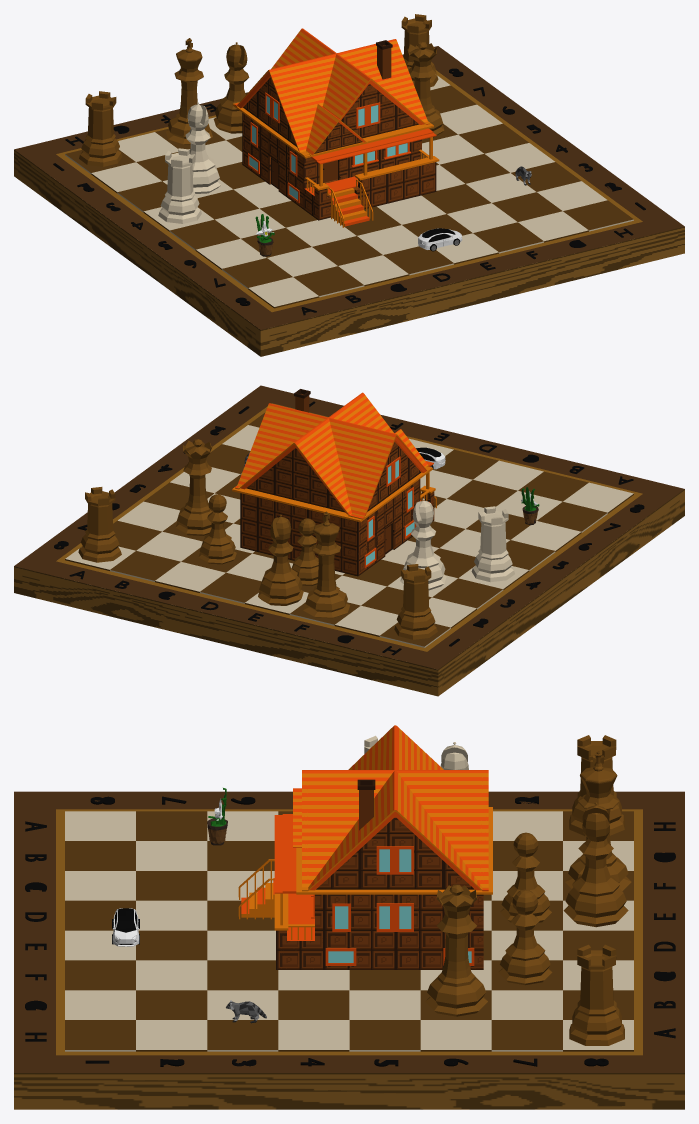
The picture shows the model from 3 angles, top to bottom: view 1: azimuth 30°, elevation 25°; view 2: azimuth 150°, elevation 25°; view 3: azimuth 270°, elevation 25°; orthographic projection. The views are drawn at different scales.
Parts seen in each view (by area): view 1: Cube.002, Cube, VEHICLES_TESLA, OBJRANDOM_MONJA BLANCA; view 2: Cube.002, Cube, OBJRANDOM_MONJA BLANCA; view 3: Cube.002, Cube, VEHICLES_TESLA, OBJRANDOM_MONJA BLANCA.
Part boxes in pixels (<box>): Cube.002: <box>14,14,684,356</box>; Cube: <box>232,28,439,227</box>; VEHICLES_TESLA: <box>418,228,462,251</box>; OBJRANDOM_MONJA BLANCA: <box>255,214,274,256</box>; Cube.002: <box>14,385,684,696</box>; Cube: <box>232,389,436,576</box>; OBJRANDOM_MONJA BLANCA: <box>521,487,539,525</box>; Cube.002: <box>14,735,684,1109</box>; Cube: <box>238,725,492,969</box>; VEHICLES_TESLA: <box>112,908,139,946</box>; OBJRANDOM_MONJA BLANCA: <box>207,788,227,845</box>.
Bounding box in the file's own units: 3981 × 1434 × 4012.
31 materials, 4 textured.
